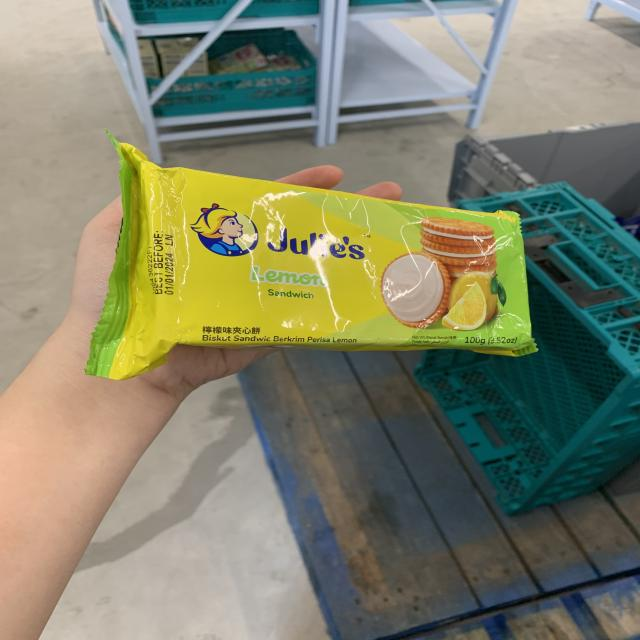object_name: (127, 168, 529, 346)
